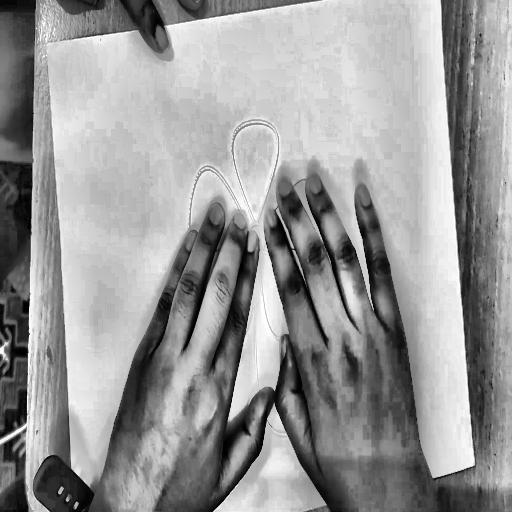bottom_right: (470, 457, 478, 470)
flower: (174, 96, 357, 472)
top_left: (44, 39, 50, 49)
